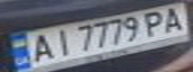7: (72, 21, 96, 52), (90, 19, 112, 48), (106, 16, 127, 46)
9: (121, 14, 145, 43)
A: (24, 31, 57, 64), (157, 4, 190, 34)
I: (48, 26, 75, 56)
P: (139, 9, 172, 37)
